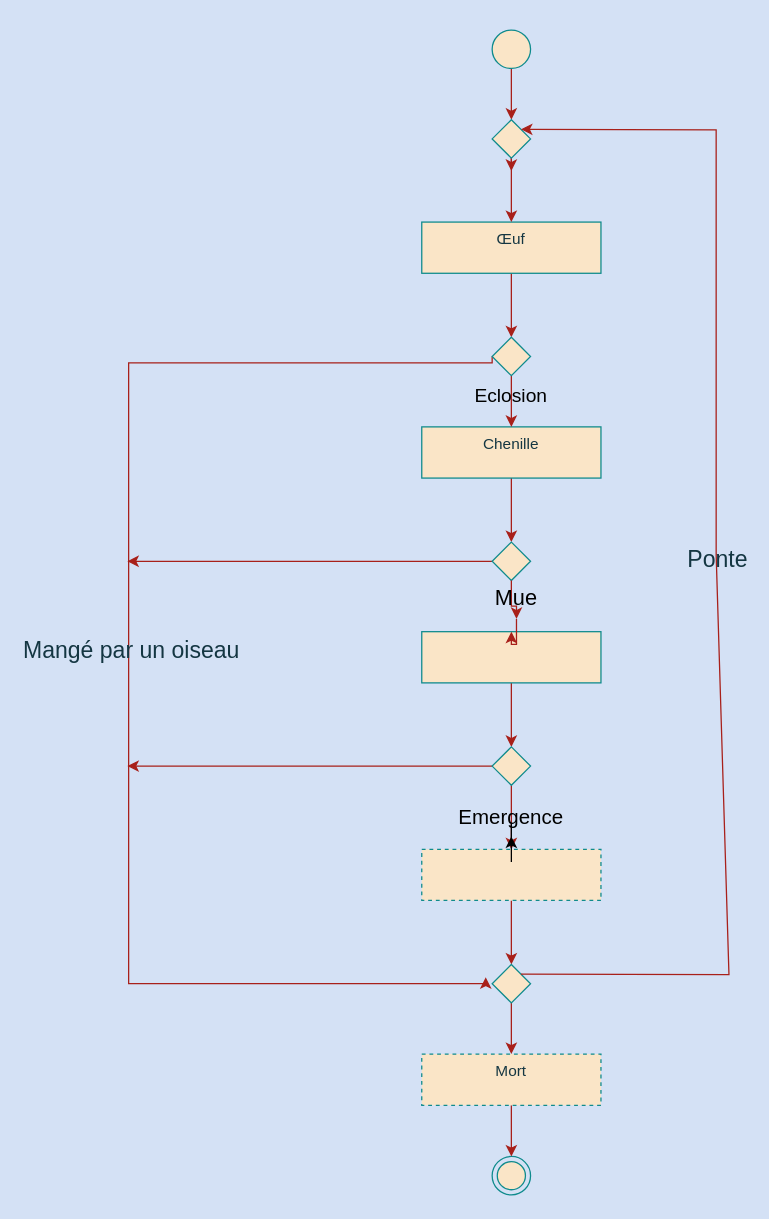
This 769x1219 diagram has some shape labels left out. The shapes that lost their labels are listed below. From the top down, each one's centre as x and y in pixels, then its label:
At [510,656]: "Chrysalide".
At [510,874]: "Papillion".
